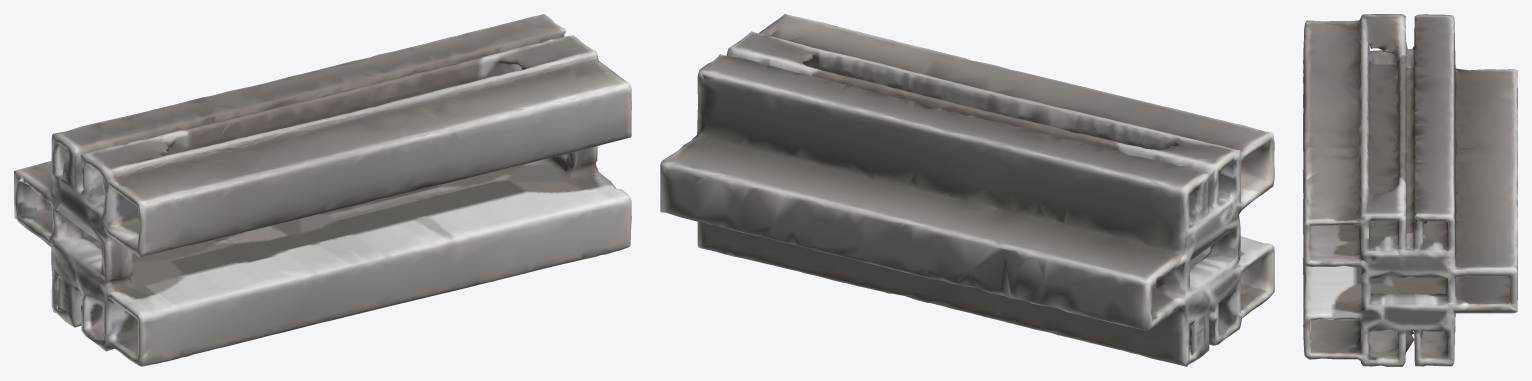
File: base_basic_pbr.glb
3 views of the same model, side by side, from view 1: azimuth 30°, elevation 25°; view 2: azimuth 150°, elevation 25°; view 3: azimuth 270°, elevation 25° (orthographic). The views are drawn at different scales.
Parts seen in each view (by area): view 1: model; view 2: model; view 3: model.
Boxes of the visible parts, x1,y1,x2,y2 form: model: [14, 14, 631, 366]; model: [660, 14, 1274, 366]; model: [1303, 14, 1517, 366].
Size of the model in its own units: 1.9 by 0.6694 by 0.8574.
Materials: 1 (1 with a texture image).
